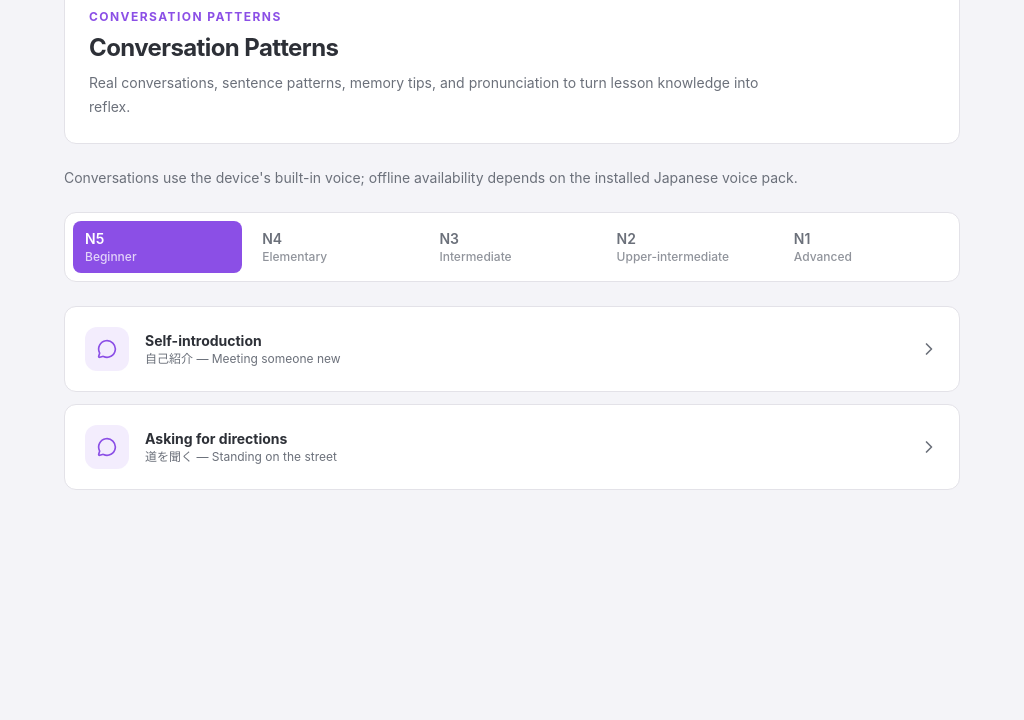
Scenario: Conversations Page › expanded content › renders cultural note when present
This screenshot has width=1024, height=720.
Click the heading "Self-introduction".
click(203, 340)  # box x1=145 y1=332 x2=262 y2=349
(page scrolled)
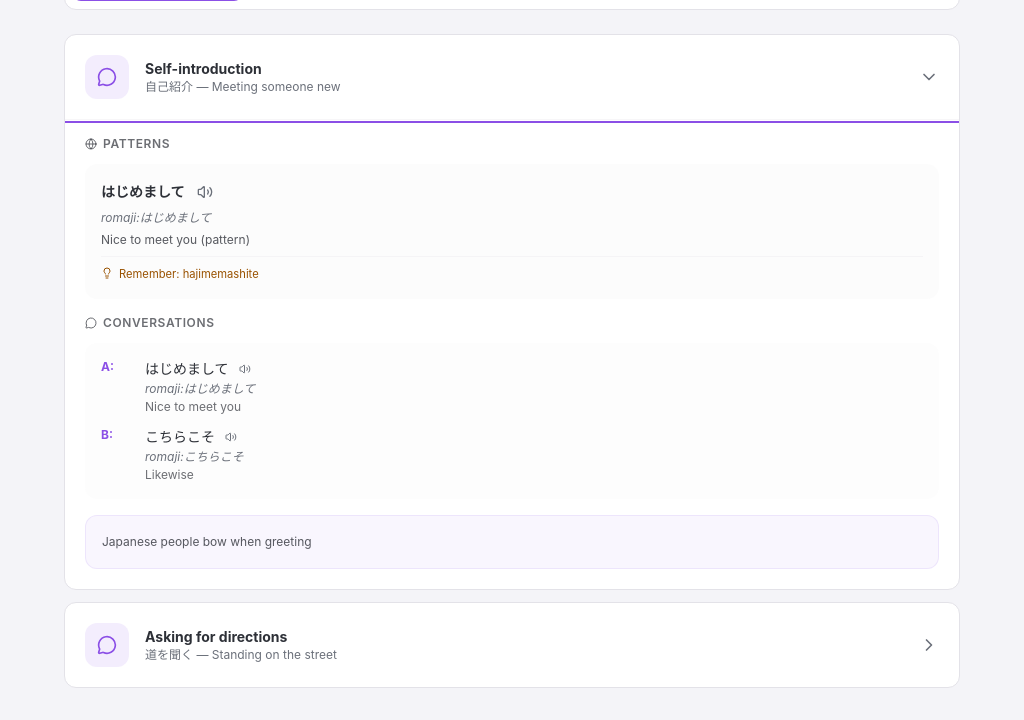
expect the text "Japanese people bow when greeting" is shown: met, box x1=102 y1=532 x2=312 y2=552
